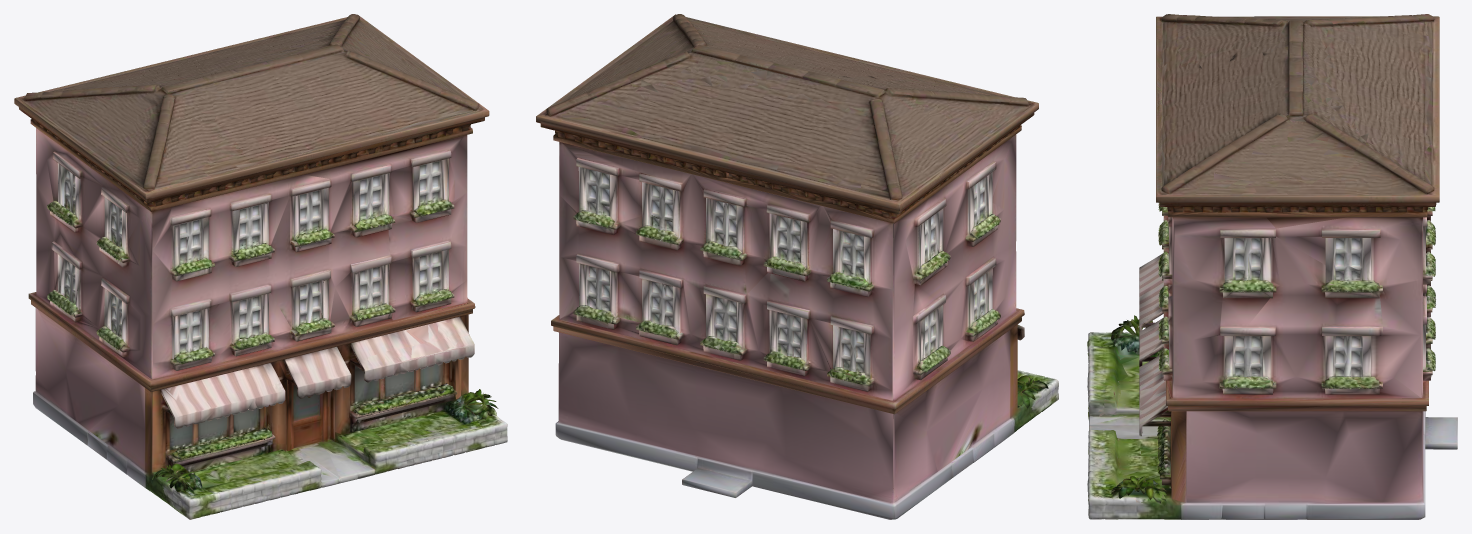
The model's file is gedung-plaza-g05.glb.
The picture shows the model from 3 angles, left to right: view 1: azimuth 30°, elevation 25°; view 2: azimuth 150°, elevation 25°; view 3: azimuth 270°, elevation 25°; orthographic projection. The views are drawn at different scales.
Visible parts, largest first — view 1: node_0; view 2: node_0; view 3: node_0.
Boxes of the visible parts, bbox=[...] form: node_0: bbox=[14, 14, 507, 519]; node_0: bbox=[536, 14, 1058, 519]; node_0: bbox=[1087, 14, 1457, 519].
Size of the model in its own units: 0.7607 by 0.7274 by 0.659.
1 material, 1 textured.
